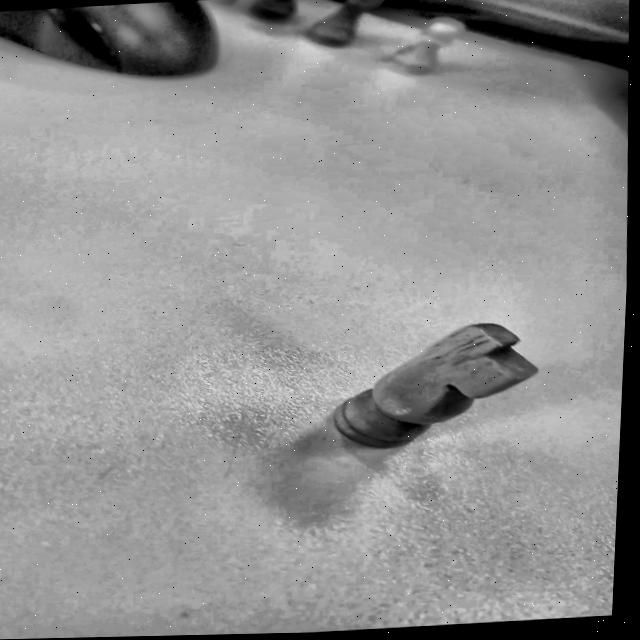white-knight: (285, 315, 604, 467)
